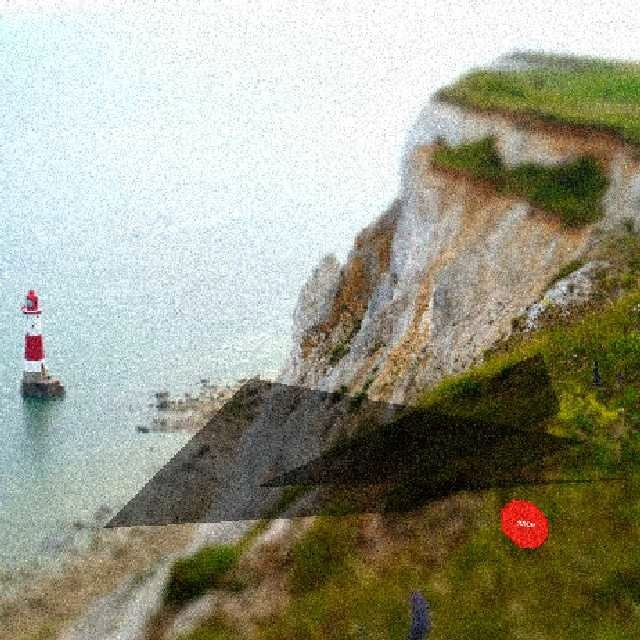STOP: (498, 497, 548, 547)
